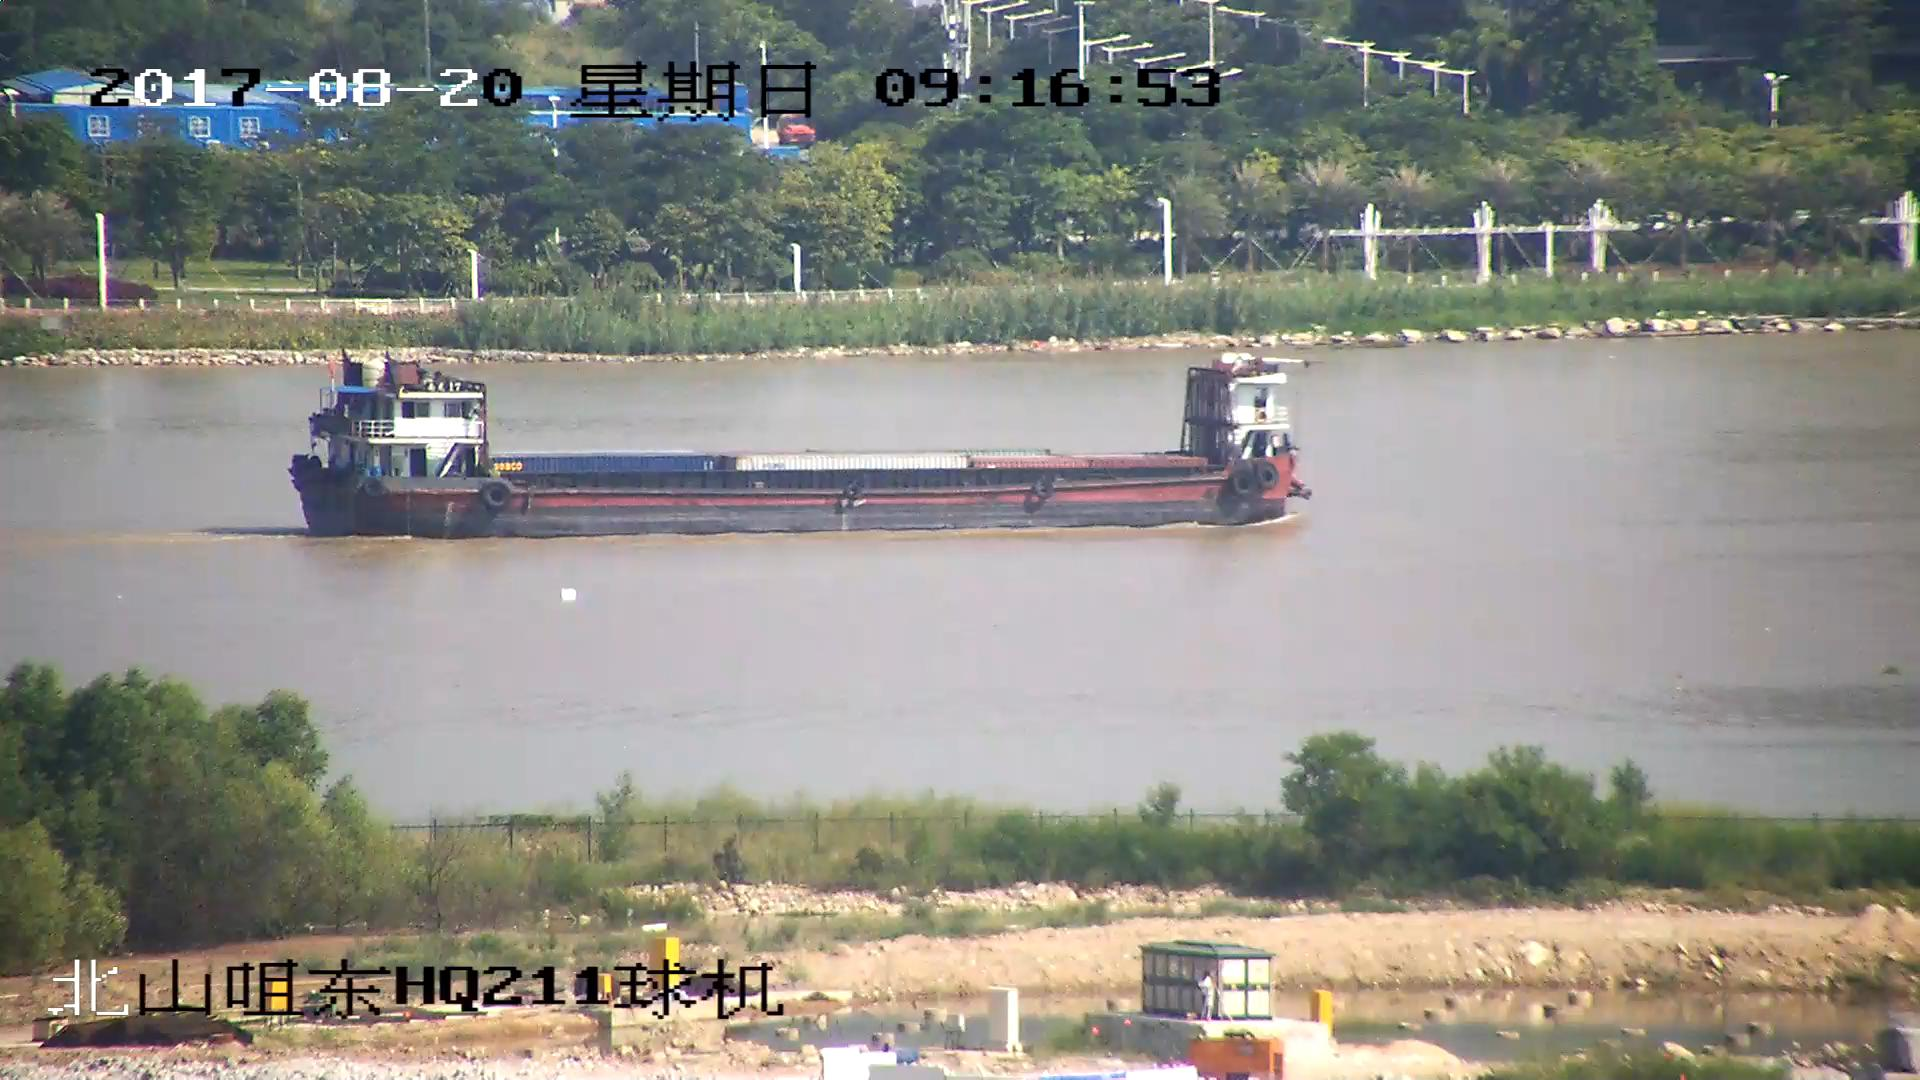general cargo ship: (281, 362, 1309, 540)
